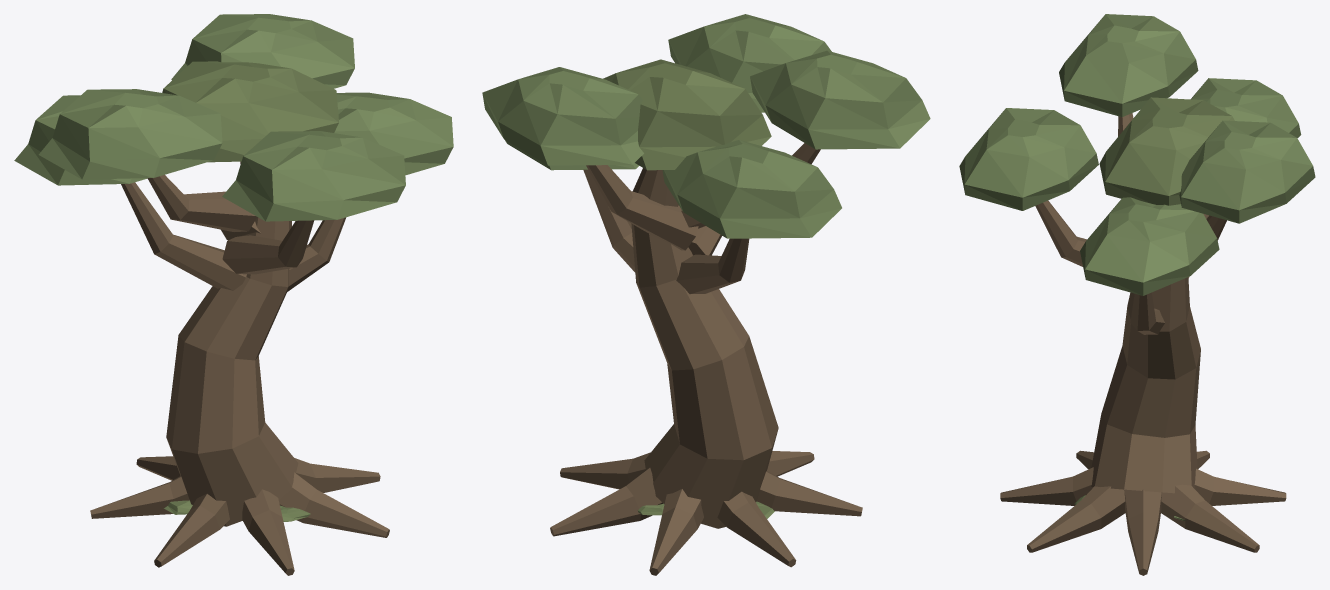
The model's file is ancient-root-tree.glb.
3 renders of one model, left to right at view 1: azimuth 30°, elevation 25°; view 2: azimuth 150°, elevation 25°; view 3: azimuth 270°, elevation 25°, orthographic. The views are drawn at different scales.
Visible parts, largest first — view 1: ancient-root-tree; view 2: ancient-root-tree; view 3: ancient-root-tree.
Boxes of the visible parts, box(x1,y1,x2,y2) form: ancient-root-tree: box(14, 14, 453, 575); ancient-root-tree: box(482, 14, 930, 575); ancient-root-tree: box(959, 14, 1315, 575).
Size of the model in its own units: 4.32 by 4.6 by 3.47.
